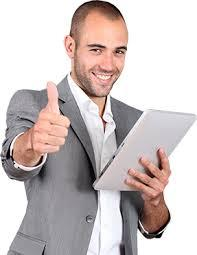Persons: (61, 4, 137, 97)
